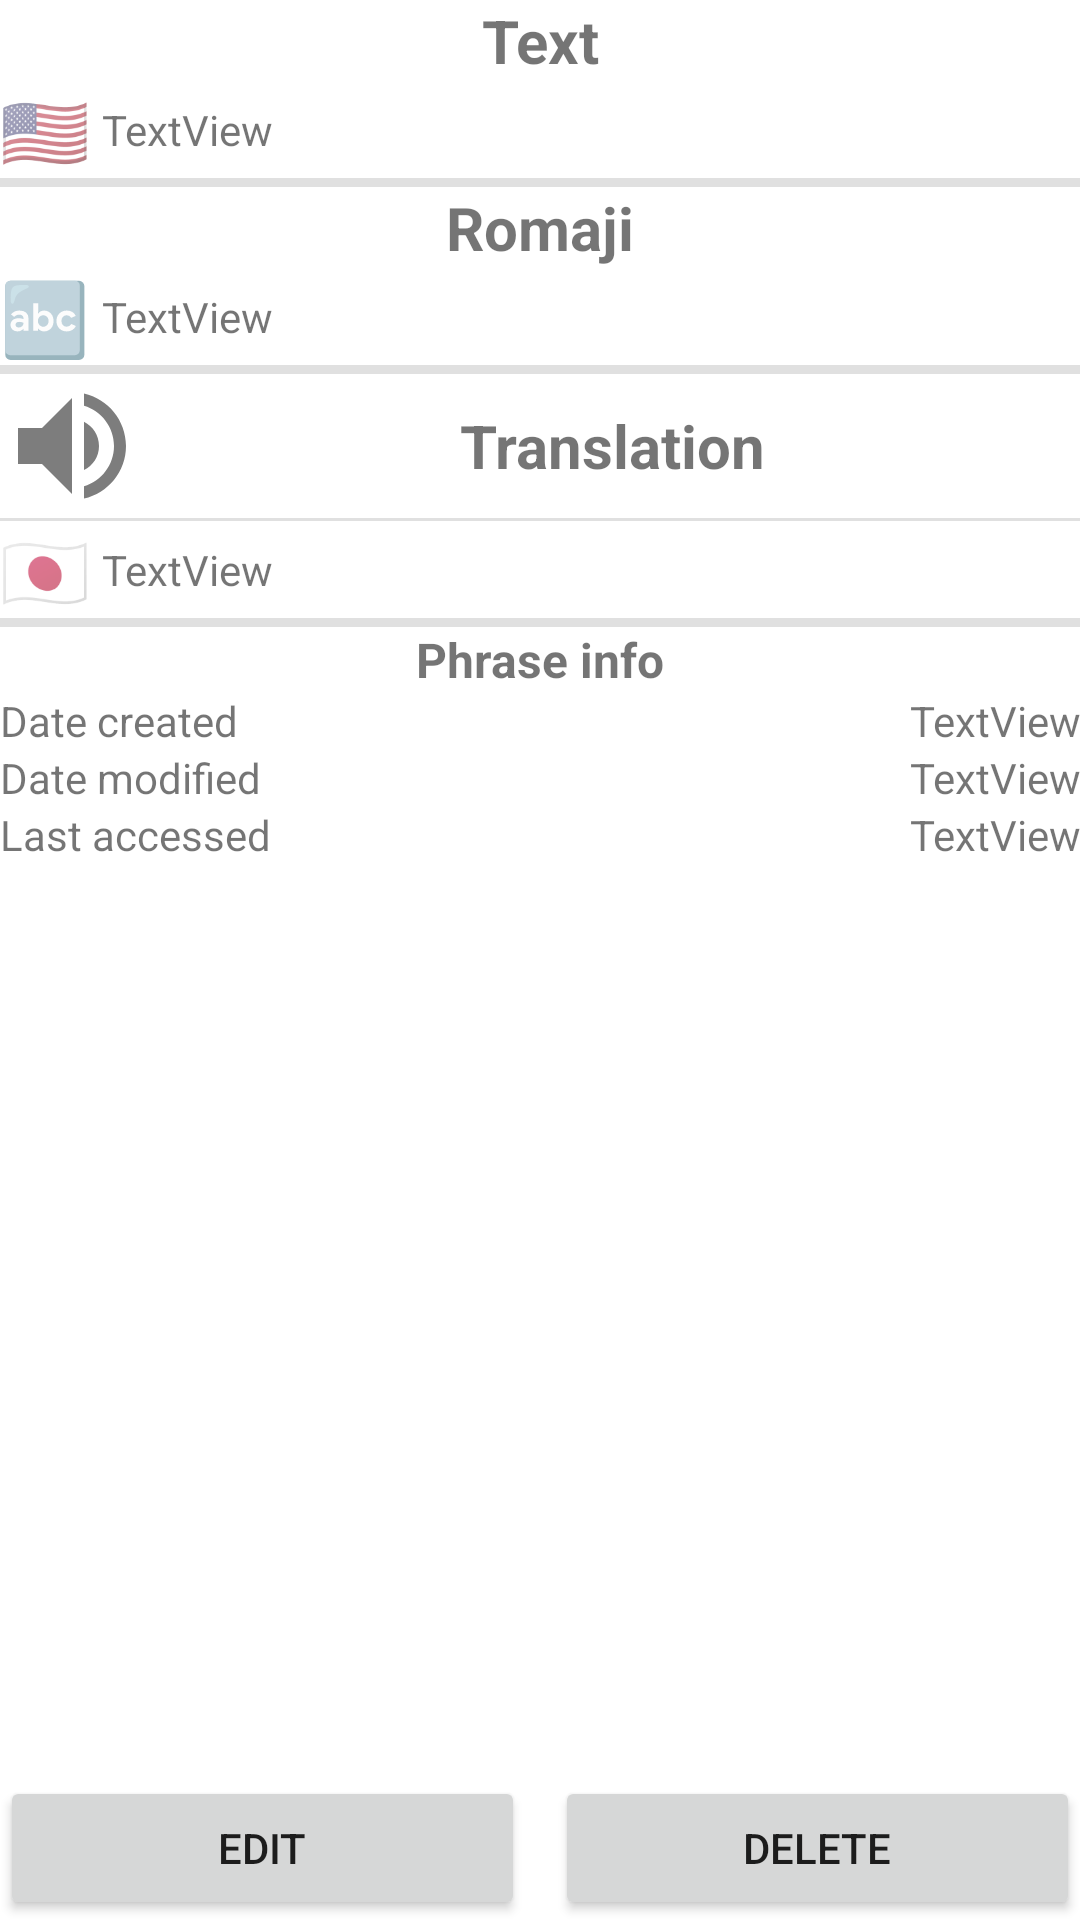

Icons on this 1080px x 1920px Android screen, each with its box as (x1, y1, x2, y2):
volume up: (18, 393, 126, 499)
